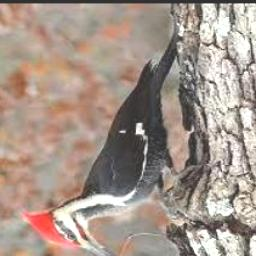Woodpecker: (22, 22, 180, 256)
